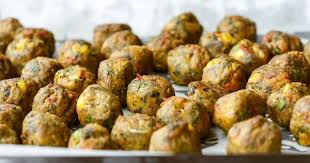bakso: (7, 10, 293, 157)
